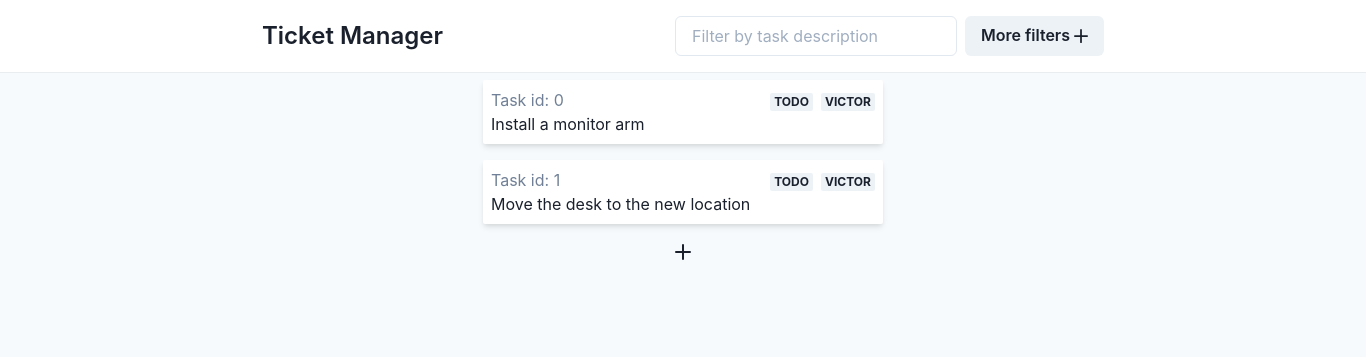
Scenario: nrwl ticket managing app › creates a new ticket
Expected: the number of elements with test id "card" is 2, left=483, top=80, right=883, bottom=144; left=483, top=160, right=883, bottom=224
Click the button with test id "add-card-button" at (683, 252), box left=663, top=232, right=703, bottom=272
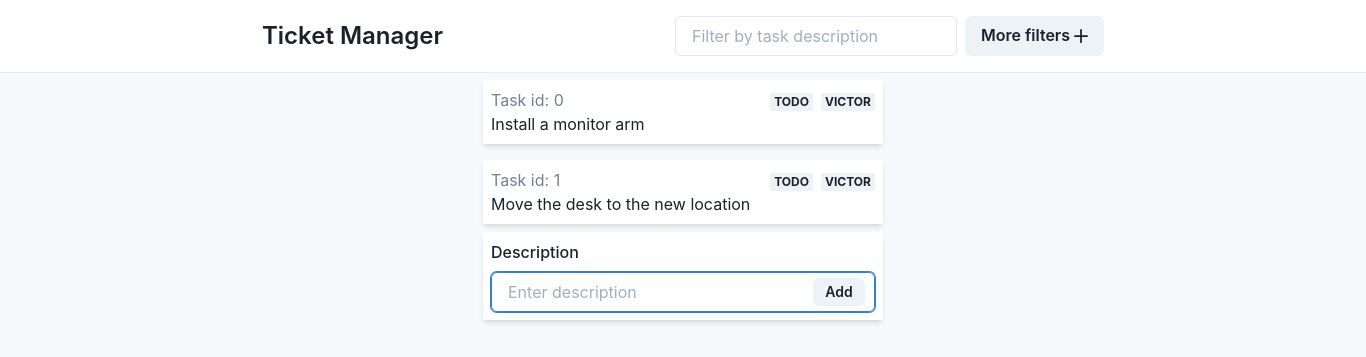
Type "New ticket" into the field labelled "Description" at (683, 292), box left=491, top=272, right=875, bottom=312
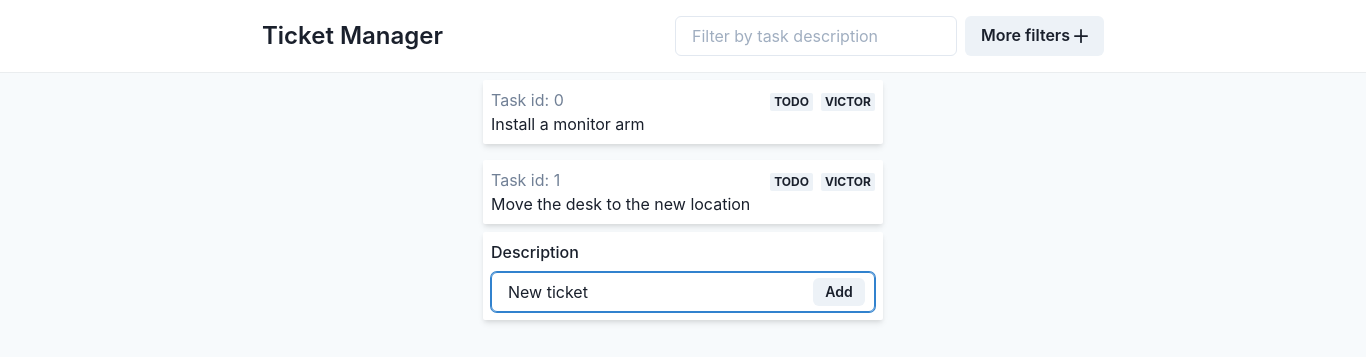
Press Enter in the field labelled "Description", box left=491, top=272, right=875, bottom=312
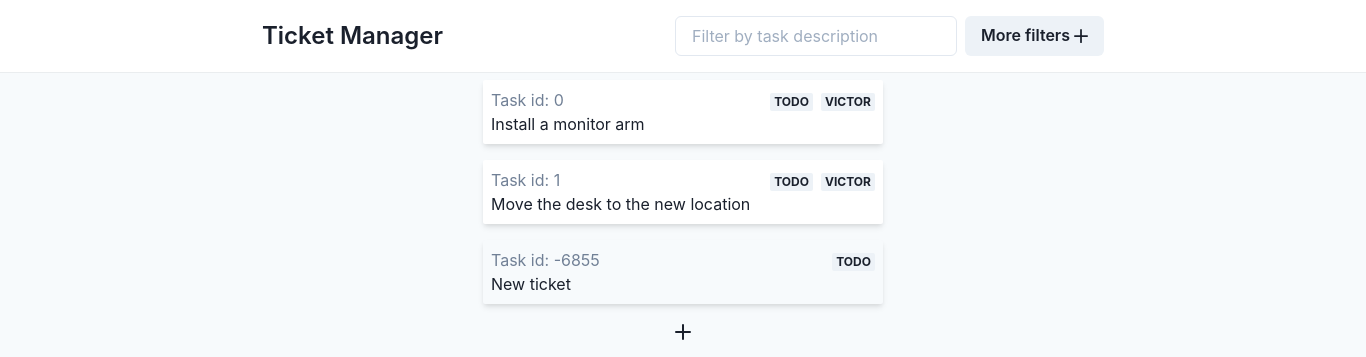
Expected: the number of elements with test id "card" is 3, left=483, top=80, right=883, bottom=144; left=483, top=160, right=883, bottom=224; left=483, top=240, right=883, bottom=304
Now the text with test id "card" reads "New ticket", box left=491, top=274, right=571, bottom=294
